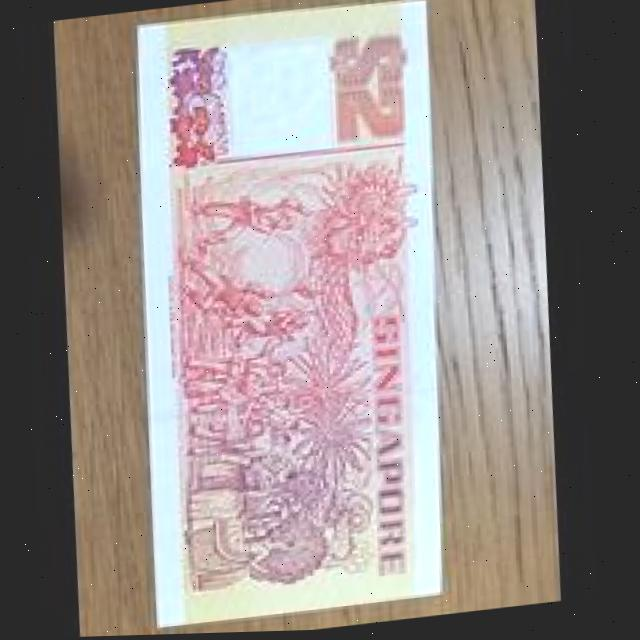banknote: (109, 0, 483, 633), (312, 26, 423, 167)
